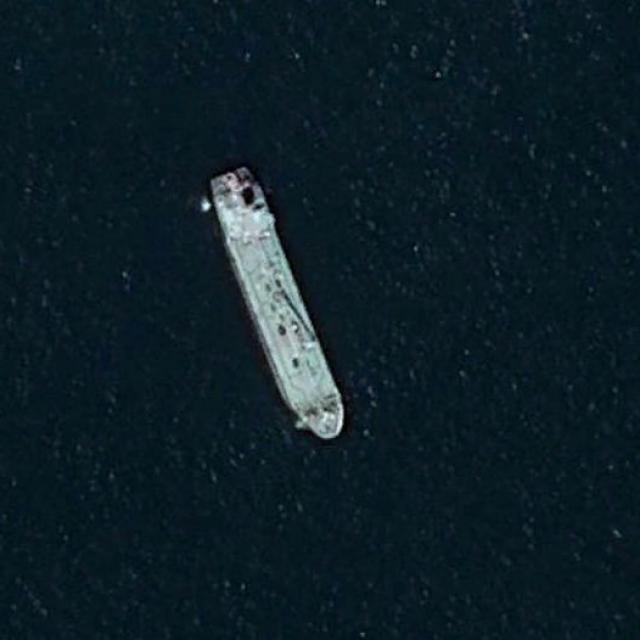ship: (206, 164, 348, 439)
